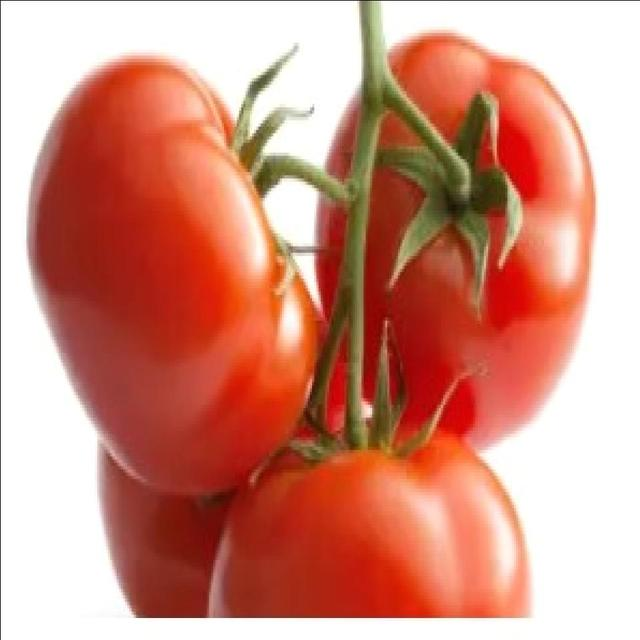Healthy Fruit: (109, 138, 304, 358)
